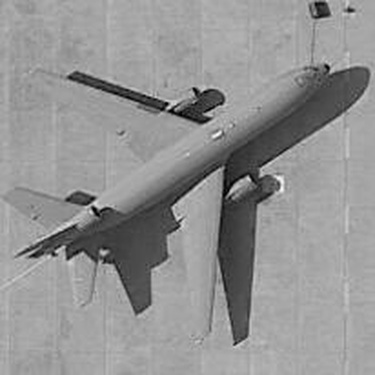airplane: (1, 51, 342, 344)
